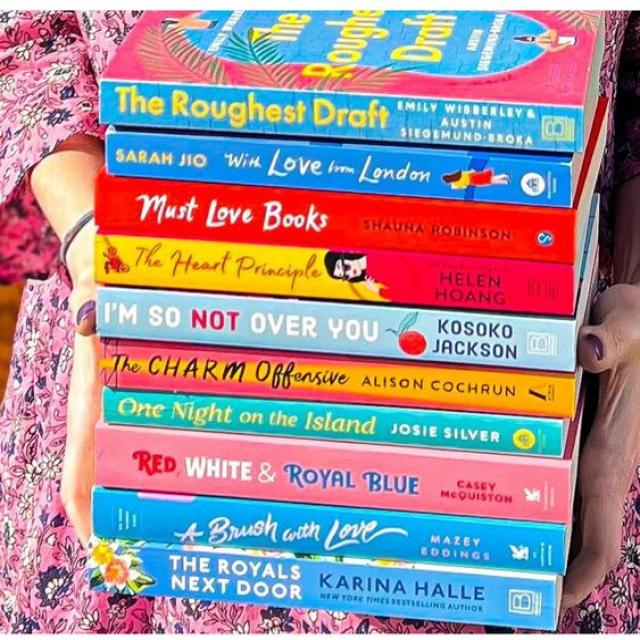book: (94, 429, 571, 524), (87, 542, 561, 630), (95, 177, 574, 262), (95, 289, 576, 372), (92, 235, 573, 316), (92, 495, 566, 576), (100, 344, 576, 420), (99, 80, 584, 152), (105, 133, 570, 206), (102, 388, 564, 458)
